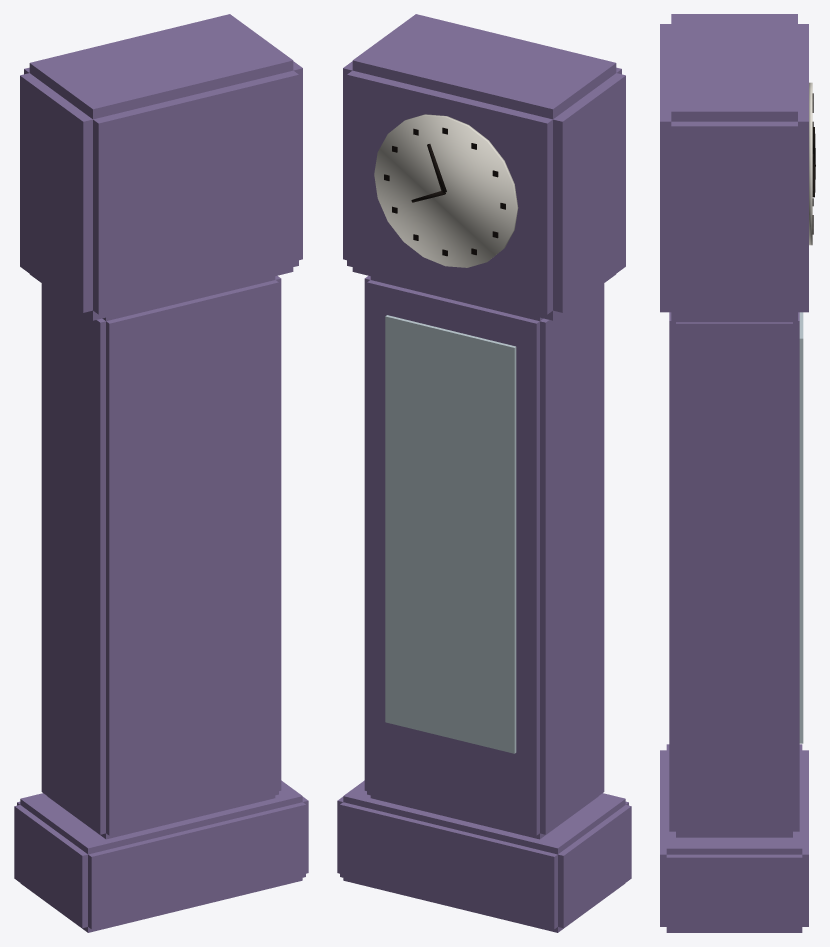
File: ebonwood_clock_v0.glb
3 views of the same model, side by side, from view 1: azimuth 30°, elevation 25°; view 2: azimuth 150°, elevation 25°; view 3: azimuth 270°, elevation 25° (orthographic).
Visible parts, largest first — view 1: ebonwood_clock_v0; view 2: ebonwood_clock_v0; view 3: ebonwood_clock_v0.
Part boxes in pixels (box(x1,y1,x2,y2)): ebonwood_clock_v0: box(14, 14, 308, 932); ebonwood_clock_v0: box(337, 14, 631, 932); ebonwood_clock_v0: box(660, 14, 815, 932).
Size of the model in its own units: 0.7 by 2.42 by 0.4185.
